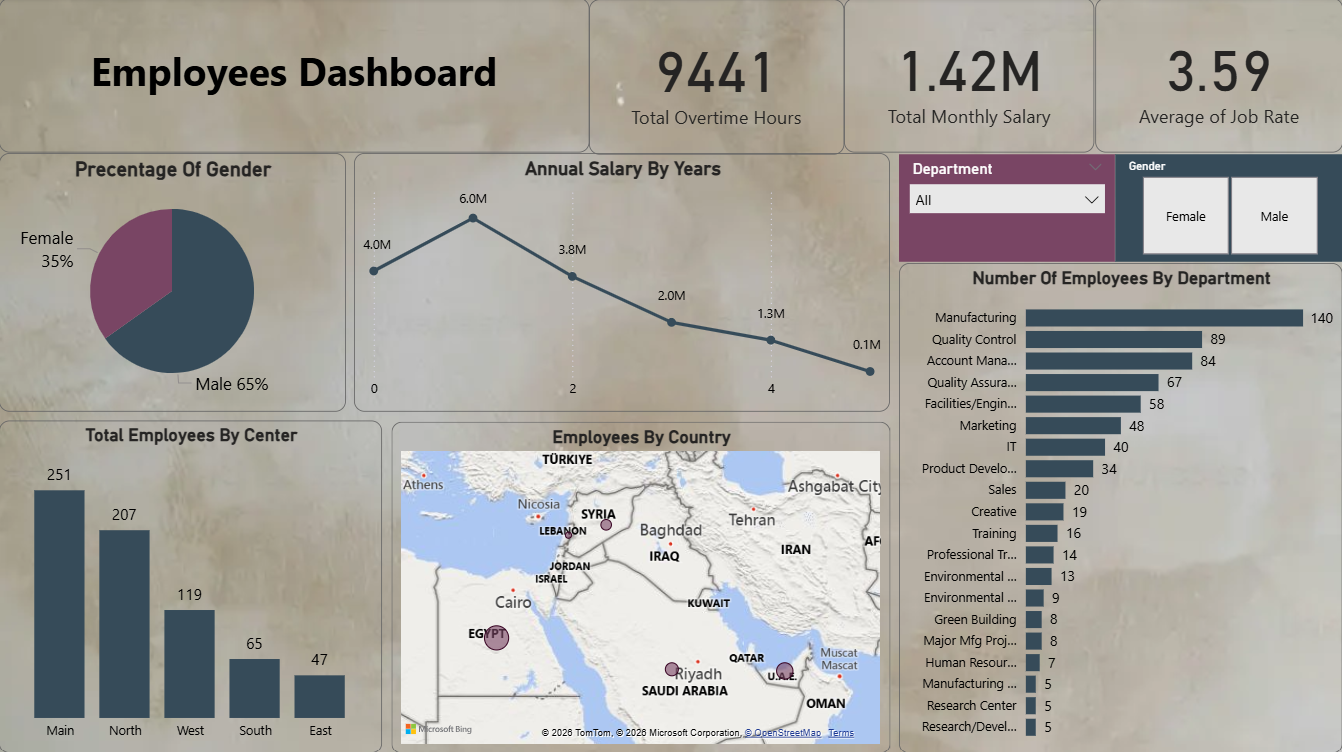

The page's visual inventory and layout, read from the dashboard file:
{"tool":"powerbi","page":{"name":"Page 1","canvas":[1280,720],"ordinal":0},"visuals":[{"type":"pieChart","title":"Precentage Of Gender","fields":{"Category":["Employees.Gender"],"Y":["CountNonNull(Employees.No)"]},"box":[0,147.5,330,246.2],"z":0},{"type":"card","fields":{"Values":["Avg(Employees.Job Rate)"]},"box":[1043.8,0,236.2,147.5],"z":1000},{"type":"columnChart","title":"Total Employees By Center","fields":{"Category":["Employees.Center"],"Y":["CountNonNull(Employees.No)"]},"box":[0,402.5,365,317.5],"z":2000},{"type":"lineChart","title":"Annual Salary By Years","fields":{"Category":["Employees.Years"],"Y":["Sum(Employees.Annual Salary)"]},"box":[338.1,147.6,510.7,246.4],"z":3000},{"type":"barChart","title":"Number Of Employees By Department","fields":{"Category":["Employees.Department"],"Y":["CountNonNull(Employees.No)"]},"box":[857.1,252.4,422.6,467.9],"z":4000},{"type":"card","fields":{"Values":["Sum(Employees.Overtime Hours)"]},"box":[561.9,1.2,242.9,147.6],"z":5000},{"type":"card","fields":{"Values":["Sum(Employees.Monthly Salary)"]},"box":[805,0,238.8,147.5],"z":6000},{"type":"slicer","fields":{"Values":["Employees.Gender"]},"box":[1063.1,148.8,216.7,102.4],"z":7000},{"type":"slicer","fields":{"Values":["Employees.Department"]},"box":[857.1,148.8,206,102.4],"z":8000},{"type":"textbox","box":[0,0,562.5,147.5],"z":9000},{"type":"map","title":"Employees  By Country","fields":{"Category":["Employees.Country"],"Size":["CountNonNull(Employees.No)"]},"box":[373.8,403.6,475,316.7],"z":10000}]}

Visuals, with their boxes in screenshot pixels (x1, y1, x2, y2), scaled from the page's 1280x720 canvas onto the 1342x752 screenshot:
"Precentage Of Gender" pieChart: left=0, top=154, right=346, bottom=411
card - Avg(Employees.Job Rate): left=1094, top=0, right=1341, bottom=154
"Total Employees By Center" columnChart: left=0, top=420, right=383, bottom=751
"Annual Salary By Years" lineChart: left=354, top=154, right=890, bottom=412
"Number Of Employees By Department" barChart: left=899, top=264, right=1341, bottom=751
card - Sum(Employees.Overtime Hours): left=589, top=1, right=844, bottom=155
card - Sum(Employees.Monthly Salary): left=844, top=0, right=1094, bottom=154
slicer - Employees.Gender: left=1115, top=155, right=1341, bottom=262
slicer - Employees.Department: left=899, top=155, right=1115, bottom=262
textbox: left=0, top=0, right=590, bottom=154
"Employees  By Country" map: left=392, top=422, right=890, bottom=751
